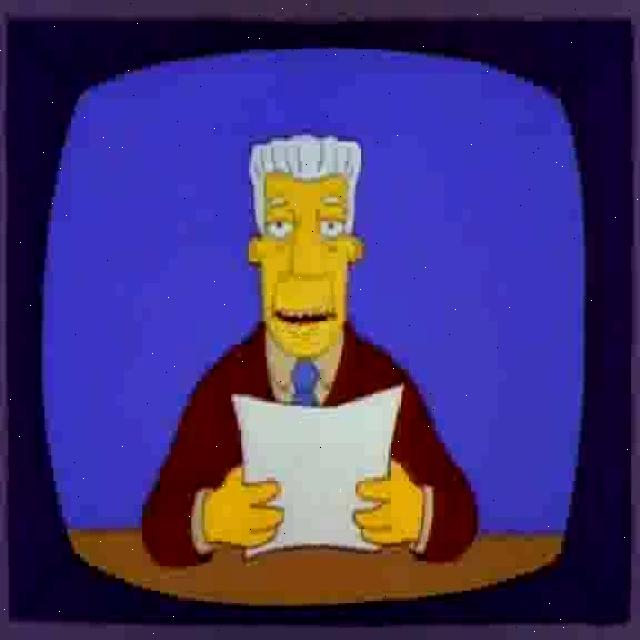Kent Brockman: (245, 128, 366, 358)
